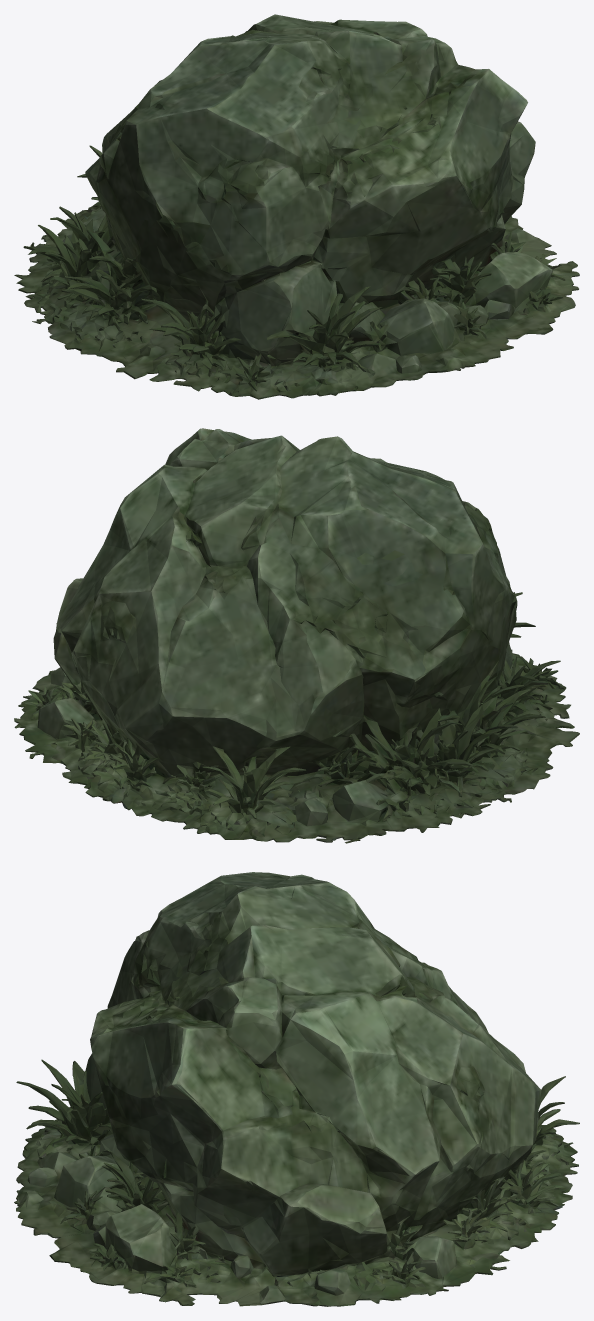
Rendered from bog_rock_01.glb.
The picture shows the model from 3 angles, top to bottom: view 1: azimuth 30°, elevation 25°; view 2: azimuth 150°, elevation 25°; view 3: azimuth 270°, elevation 25°; orthographic projection. The views are drawn at different scales.
Visible parts, largest first — view 1: geometry_0; view 2: geometry_0; view 3: geometry_0.
Boxes of the visible parts, x1,y1,x2,y2 form: geometry_0: [14, 14, 579, 399]; geometry_0: [14, 428, 579, 843]; geometry_0: [14, 872, 579, 1306].
Bounding box in the file's own units: 1 × 0.558 × 0.9739.
Materials: 1 (1 with a texture image).
